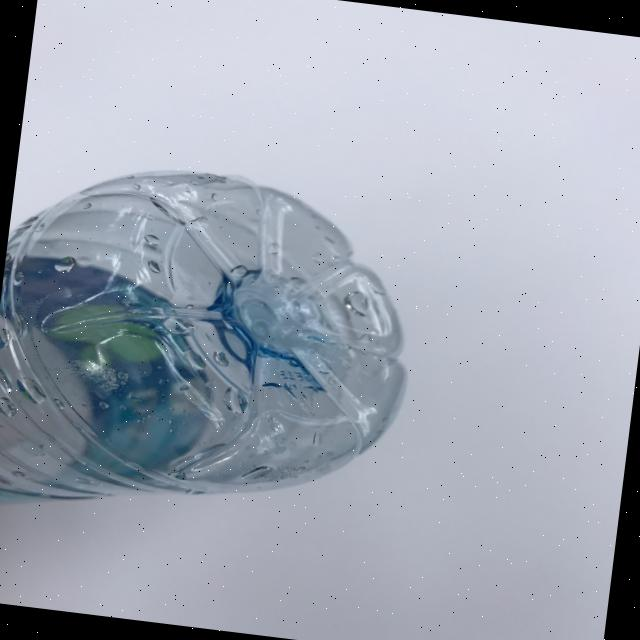plastic: (0, 146, 429, 554)
